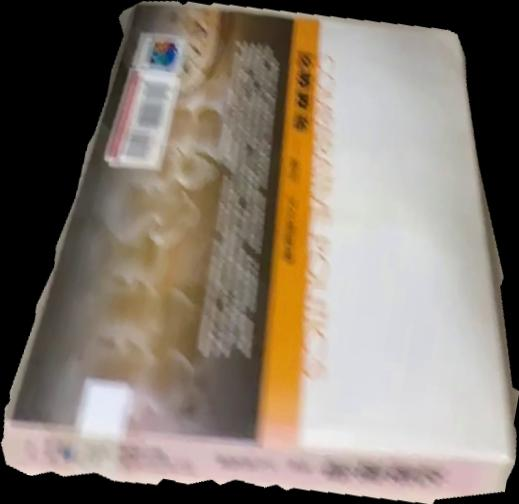flat: (1, 1, 519, 504)
